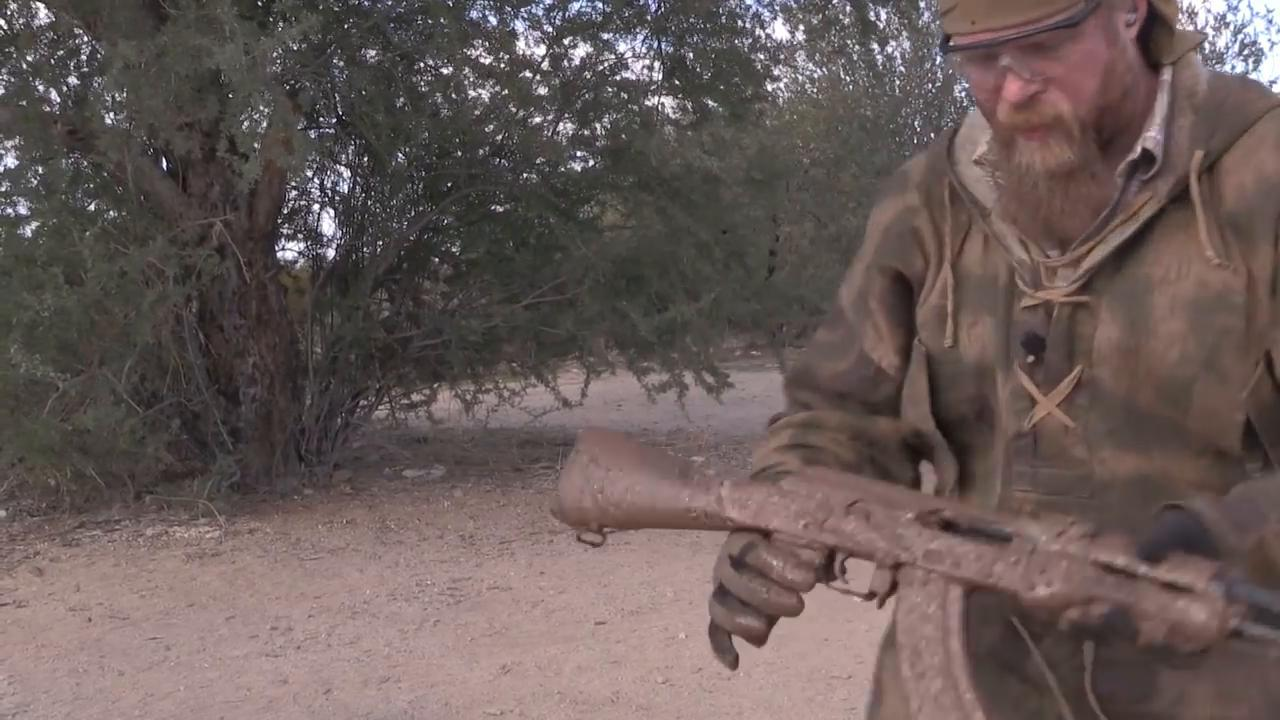AK47 Rifle: (551, 426, 1280, 671)
